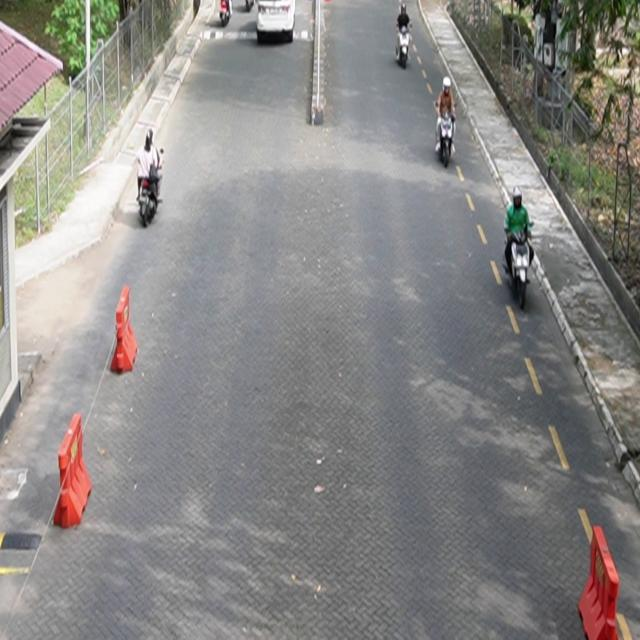car: (257, 1, 297, 44)
